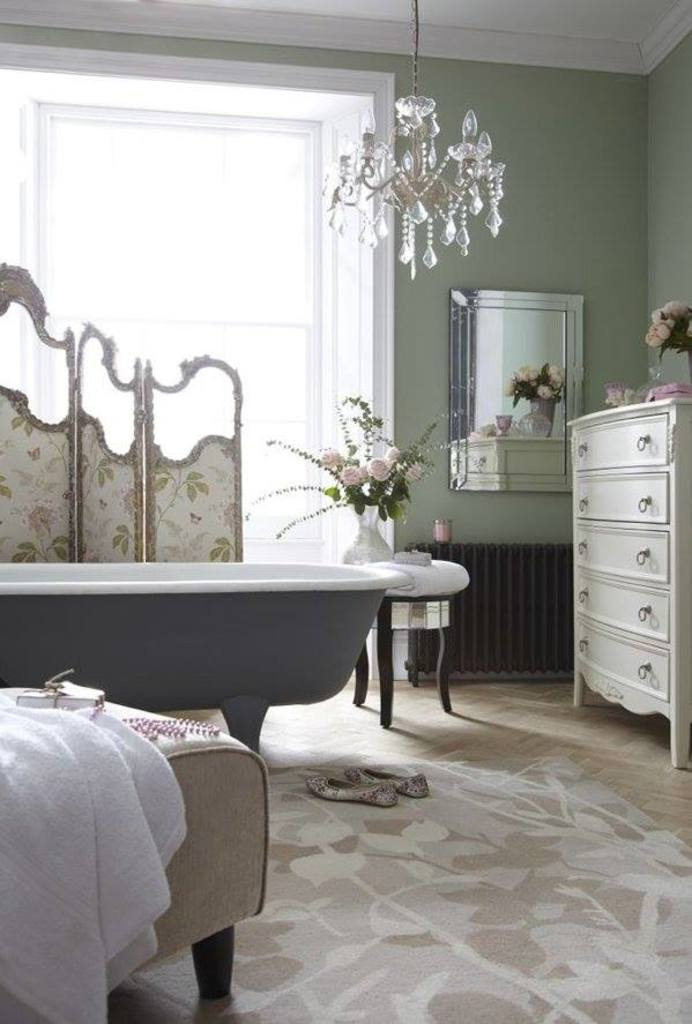cabinet door: (575, 570, 666, 629), (578, 633, 670, 690), (577, 523, 667, 575), (579, 482, 666, 518), (580, 444, 666, 469)
handle: (636, 589, 654, 633), (636, 428, 654, 454), (576, 491, 592, 519), (640, 494, 654, 522), (636, 545, 651, 570), (636, 661, 650, 684), (576, 535, 590, 558), (577, 441, 590, 462), (581, 586, 589, 613), (580, 639, 589, 661)
